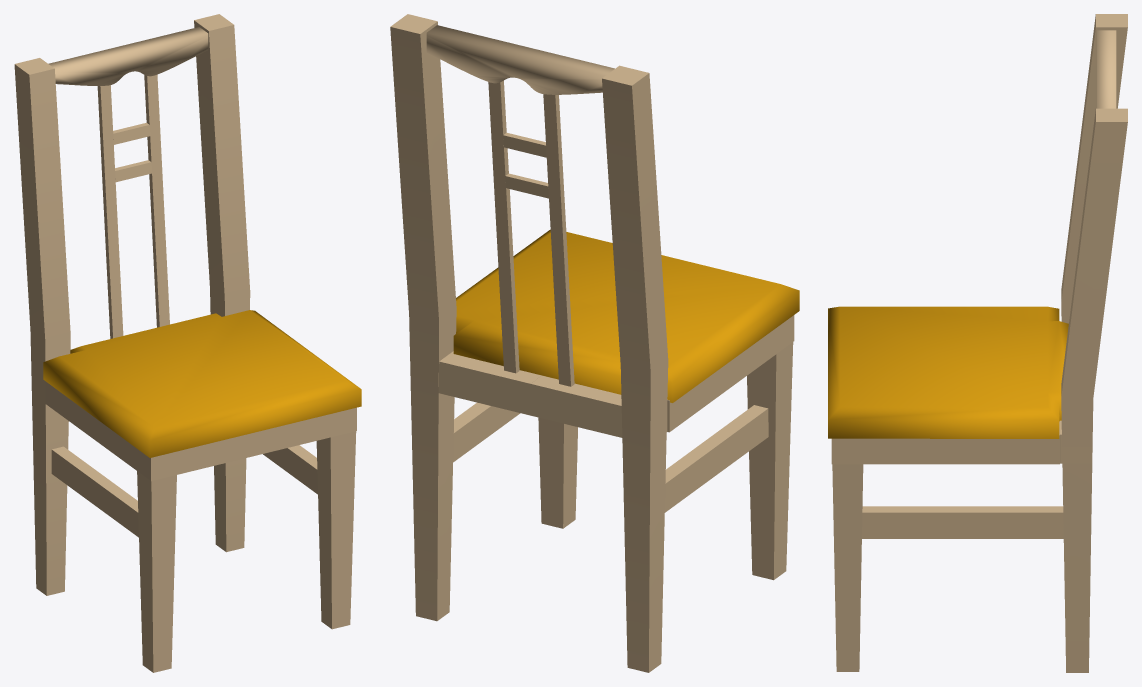
Rendered from chaiseOrange.glb.
3 views of the same model, side by side, from view 1: azimuth 30°, elevation 25°; view 2: azimuth 150°, elevation 25°; view 3: azimuth 270°, elevation 25° (orthographic). The views are drawn at different scales.
Parts seen in each view (by area): view 1: chaiseOrange; view 2: chaiseOrange; view 3: chaiseOrange.
Part boxes in pixels (x1,y1,x2,y2): chaiseOrange: (14, 14, 361, 672); chaiseOrange: (390, 14, 799, 672); chaiseOrange: (828, 14, 1127, 672).
Bounding box in the file's own units: 0.412 × 0.95 × 0.467.
